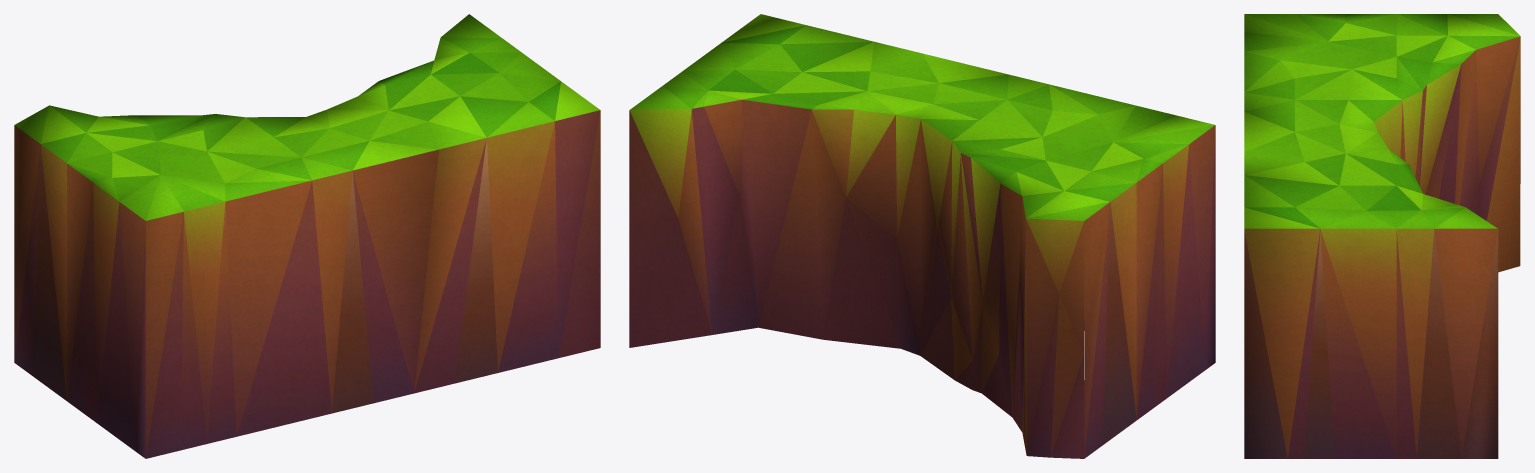
File: Terrain-part-11.fbx
3 renders of one model, left to right at view 1: azimuth 30°, elevation 25°; view 2: azimuth 150°, elevation 25°; view 3: azimuth 270°, elevation 25°, orthographic. The views are drawn at different scales.
Visible parts, largest first — view 1: Terrain-part-11; view 2: Terrain-part-11; view 3: Terrain-part-11.
Part boxes in pixels (box(x1,y1,x2,y2)): Terrain-part-11: box(14, 14, 600, 458); Terrain-part-11: box(629, 14, 1215, 458); Terrain-part-11: box(1244, 14, 1520, 458).
Size of the model in its own units: 6 by 3 by 3.27.
